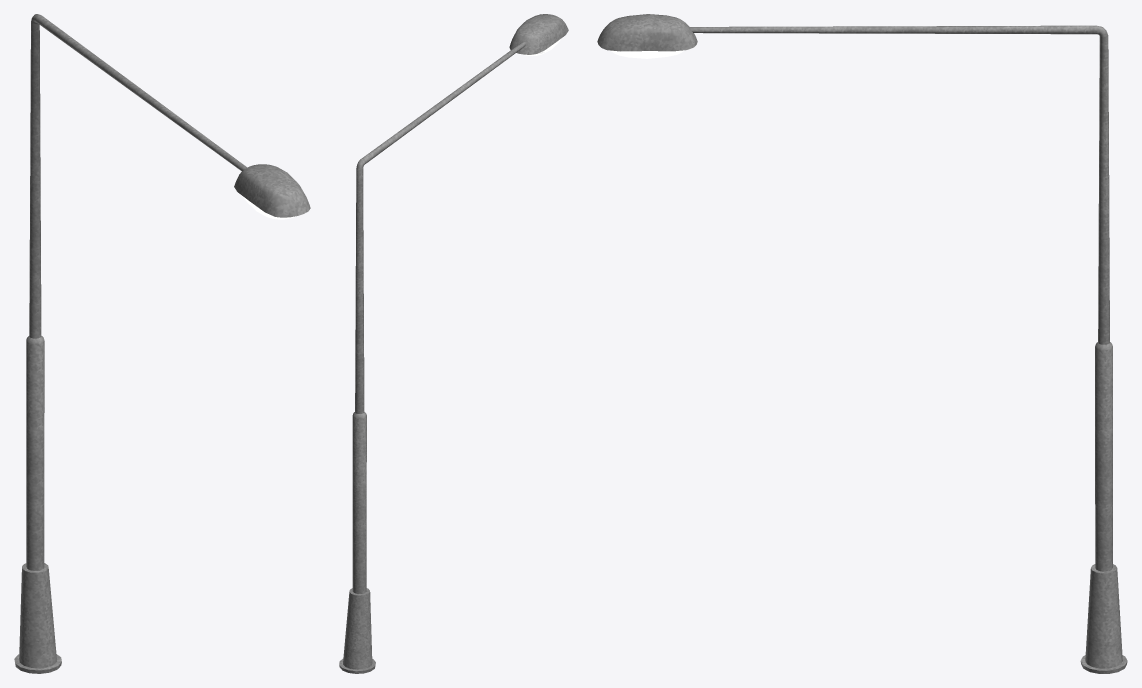
Rendered from street_light.glb.
The picture shows the model from 3 angles, left to right: view 1: azimuth 30°, elevation 25°; view 2: azimuth 150°, elevation 25°; view 3: azimuth 270°, elevation 25°; orthographic projection. The views are drawn at different scales.
Parts seen in each view (by area): view 1: StreetLight; view 2: StreetLight; view 3: StreetLight.
Part boxes in pixels (box(x1,y1,x2,y2)): StreetLight: box(14, 14, 310, 673); StreetLight: box(339, 14, 568, 673); StreetLight: box(597, 14, 1127, 673).
Bounding box in the file's own units: 0.492 × 7.11 × 5.28.
2 materials, 2 textured.
